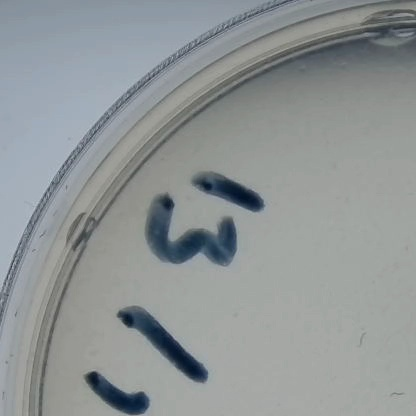worm: (354, 327, 371, 349), (389, 389, 407, 399)
